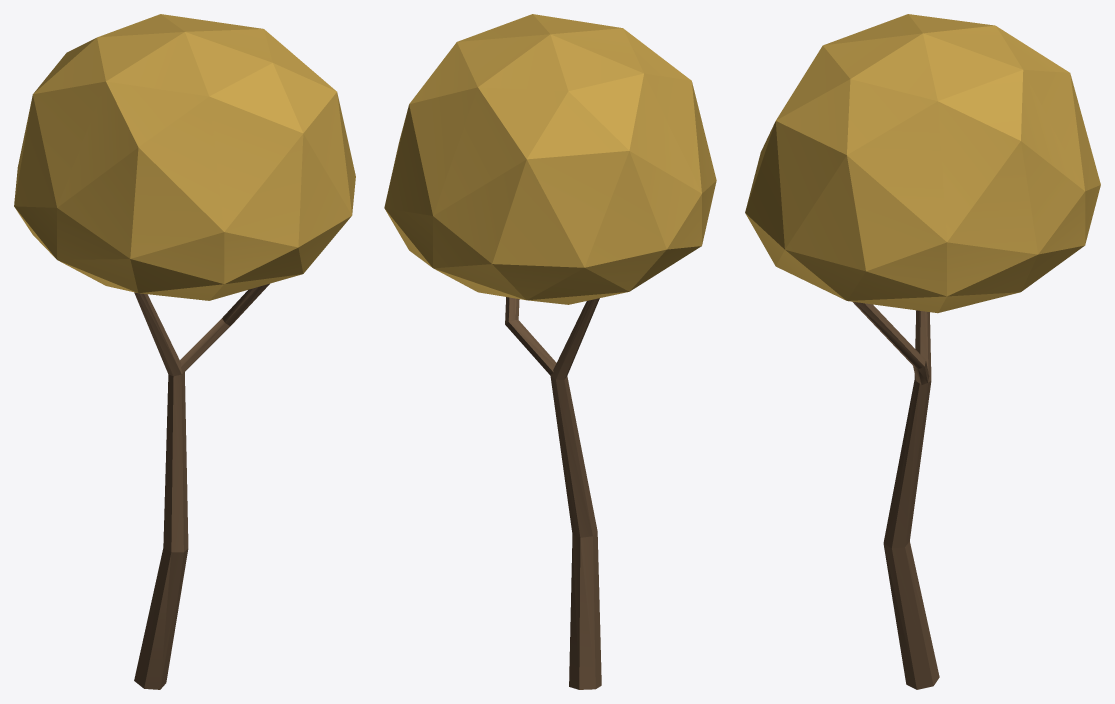
Rendered from tree_yellow_3.glb.
3 views of the same model, side by side, from view 1: azimuth 30°, elevation 25°; view 2: azimuth 150°, elevation 25°; view 3: azimuth 270°, elevation 25° (orthographic). The views are drawn at different scales.
Parts seen in each view (by area): view 1: Tree Yellow 3.944; view 2: Tree Yellow 3.944; view 3: Tree Yellow 3.944.
Boxes of the visible parts, bbox=[...] form: Tree Yellow 3.944: bbox=[14, 14, 355, 689]; Tree Yellow 3.944: bbox=[384, 14, 716, 689]; Tree Yellow 3.944: bbox=[745, 14, 1100, 689].
Size of the model in its own units: 0.1714 by 0.3676 by 0.1775.
